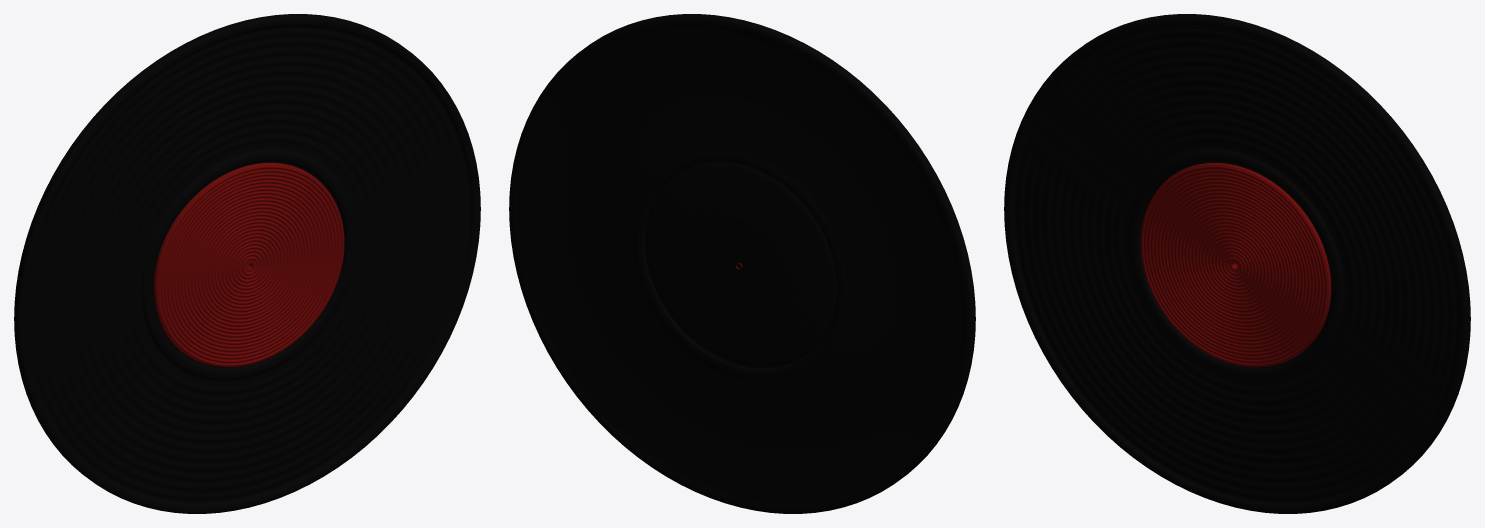
The model's file is Record_v01.glb.
The picture shows the model from 3 angles, left to right: view 1: azimuth 30°, elevation 25°; view 2: azimuth 150°, elevation 25°; view 3: azimuth 330°, elevation 25°; orthographic projection.
Parts seen in each view (by area): view 1: Record; view 2: Record; view 3: Record.
Part boxes in pixels (box(x1,y1,x2,y2)): Record: box(14, 14, 480, 513); Record: box(509, 14, 975, 513); Record: box(1004, 14, 1470, 513).
Bounding box in the file's own units: 0.8107 × 0.8107 × 0.0207.
